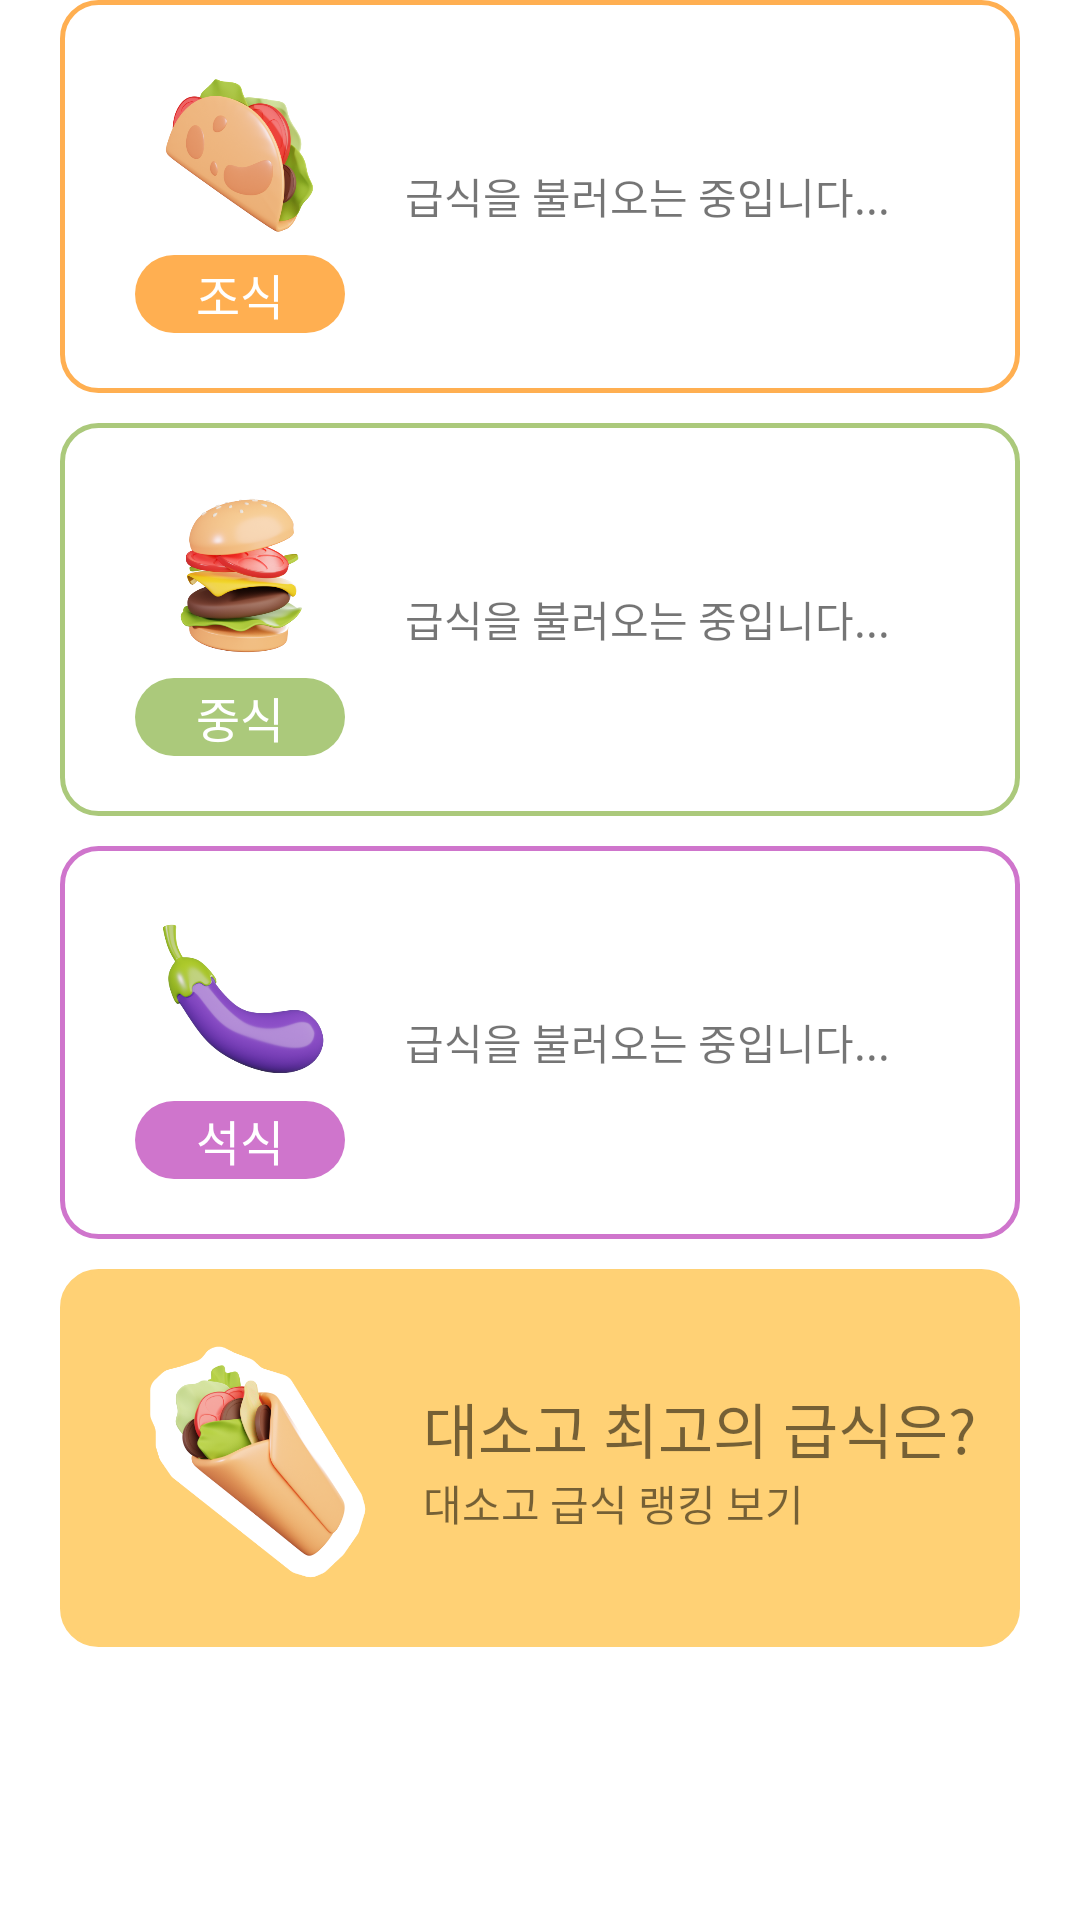

Locate icon controls on the screen. Image size 1080*1920, boxes as box=[x1, y1, x2, y2].
burger: box=[180, 499, 302, 652]
buritto: box=[150, 1346, 366, 1577]
eggplant: box=[163, 925, 324, 1073]
taco: box=[166, 79, 313, 232]
